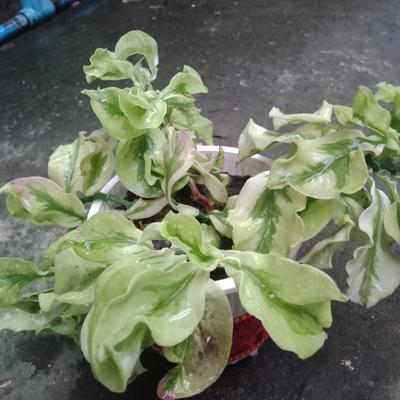Pothos plant: (68, 48, 371, 337)
